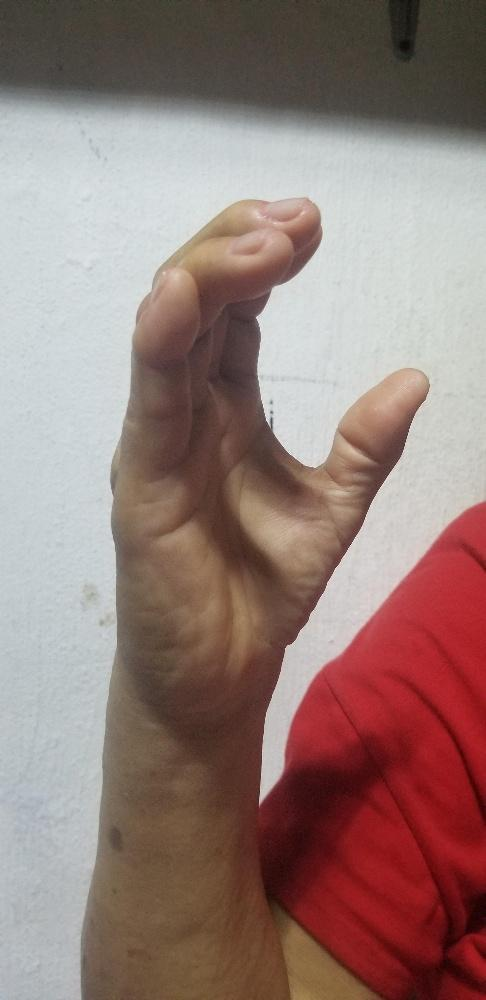c: (108, 194, 428, 685)
